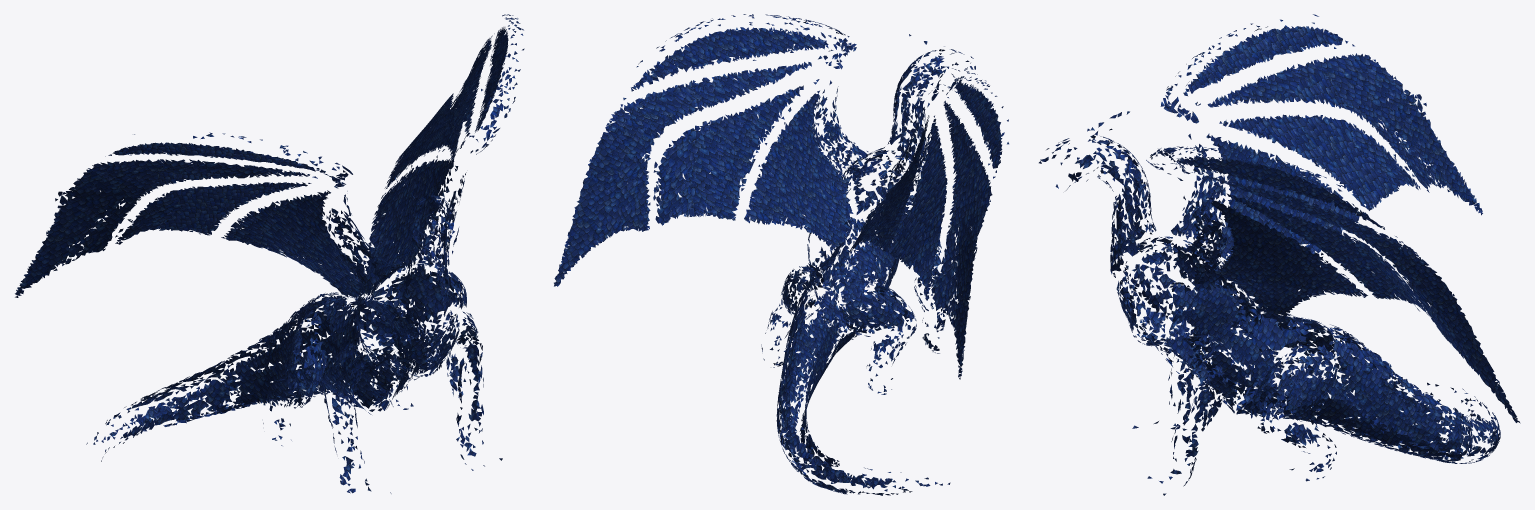
File: storm_dragon_textured_runtime.glb
The picture shows the model from 3 angles, left to right: view 1: azimuth 30°, elevation 25°; view 2: azimuth 150°, elevation 25°; view 3: azimuth 270°, elevation 25°; orthographic projection. The views are drawn at different scales.
Parts seen in each view (by area): view 1: storm_dragon_textured_runtime; view 2: storm_dragon_textured_runtime; view 3: storm_dragon_textured_runtime.
Boxes of the visible parts, x1,y1,x2,y2 form: storm_dragon_textured_runtime: [15, 14, 524, 493]; storm_dragon_textured_runtime: [554, 14, 1008, 495]; storm_dragon_textured_runtime: [1039, 14, 1520, 495].
Size of the model in its own units: 1.84 by 1.58 by 1.69.
1 material, 1 textured.
